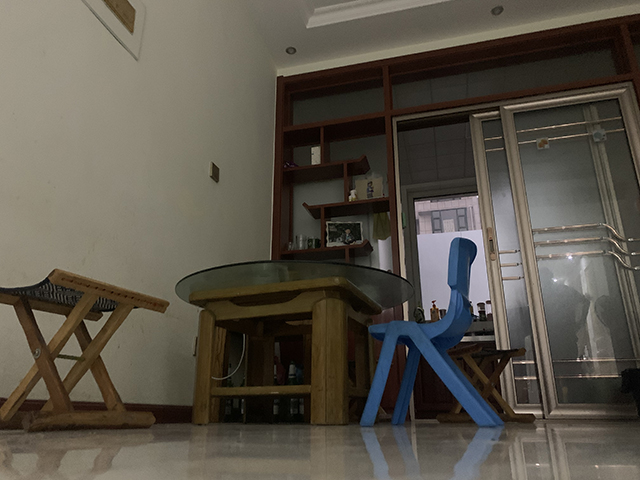stool: (358, 235, 506, 429), (1, 266, 172, 433), (434, 340, 536, 425)
table: (188, 276, 387, 428)
